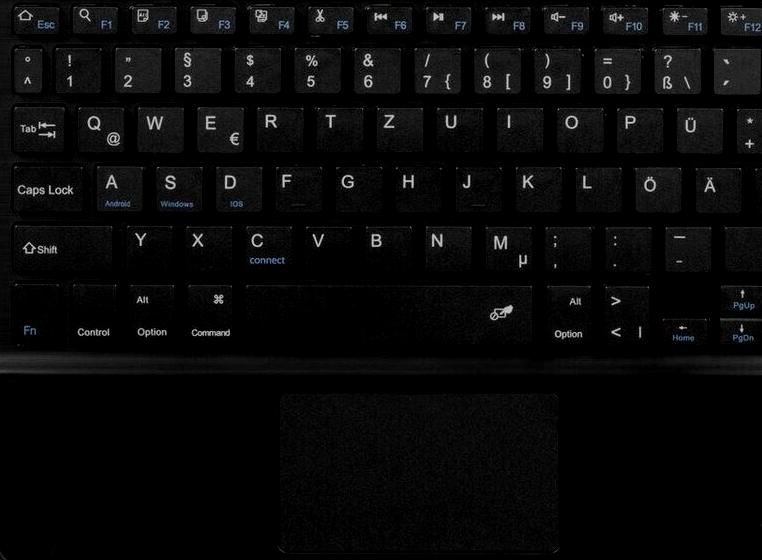0: (588, 43, 641, 95)
1: (50, 41, 102, 93)
2: (109, 42, 162, 94)
3: (168, 42, 222, 94)
4: (229, 42, 281, 93)
5: (288, 43, 341, 94)
6: (348, 43, 401, 95)
7: (409, 43, 461, 95)
8: (468, 44, 520, 95)
9: (527, 44, 581, 95)
a: (90, 160, 143, 212)
accent: (708, 43, 760, 94)
ae: (689, 162, 742, 213)
alt-left: (124, 278, 177, 346)
altgr-right: (541, 279, 593, 347)
b: (359, 220, 412, 272)
c: (239, 220, 293, 273)
caret: (9, 42, 43, 93)
comma: (538, 221, 592, 273)
d: (209, 161, 262, 212)
e: (191, 102, 245, 154)
f: (269, 161, 323, 212)
g: (329, 161, 382, 213)
h: (389, 161, 442, 213)
i: (491, 102, 543, 153)
j: (449, 161, 502, 213)
k: (509, 161, 562, 213)
keyboard: (1, 1, 762, 371)
l: (569, 162, 622, 213)
less: (599, 280, 651, 349)
m: (478, 220, 532, 273)
minus: (659, 221, 711, 272)
n: (419, 220, 471, 272)
o: (550, 102, 603, 154)
oe: (629, 162, 682, 213)
p: (611, 102, 663, 154)
plus: (730, 102, 762, 154)
point: (599, 221, 651, 272)
q: (71, 101, 125, 154)
r: (251, 102, 304, 154)
s: (149, 160, 203, 212)
shift-left: (8, 219, 114, 271)
shift-lock: (7, 159, 84, 213)
shift-right: (720, 221, 762, 274)
space: (239, 278, 537, 346)
ss: (647, 43, 700, 95)
strg-left: (66, 278, 120, 346)
t: (311, 102, 364, 153)
tab: (7, 99, 65, 153)
u: (430, 101, 483, 154)
ue: (670, 102, 723, 154)
v: (300, 221, 353, 272)
w: (131, 100, 184, 153)
x: (180, 220, 233, 272)
y: (121, 220, 173, 272)
z: (371, 102, 424, 154)
